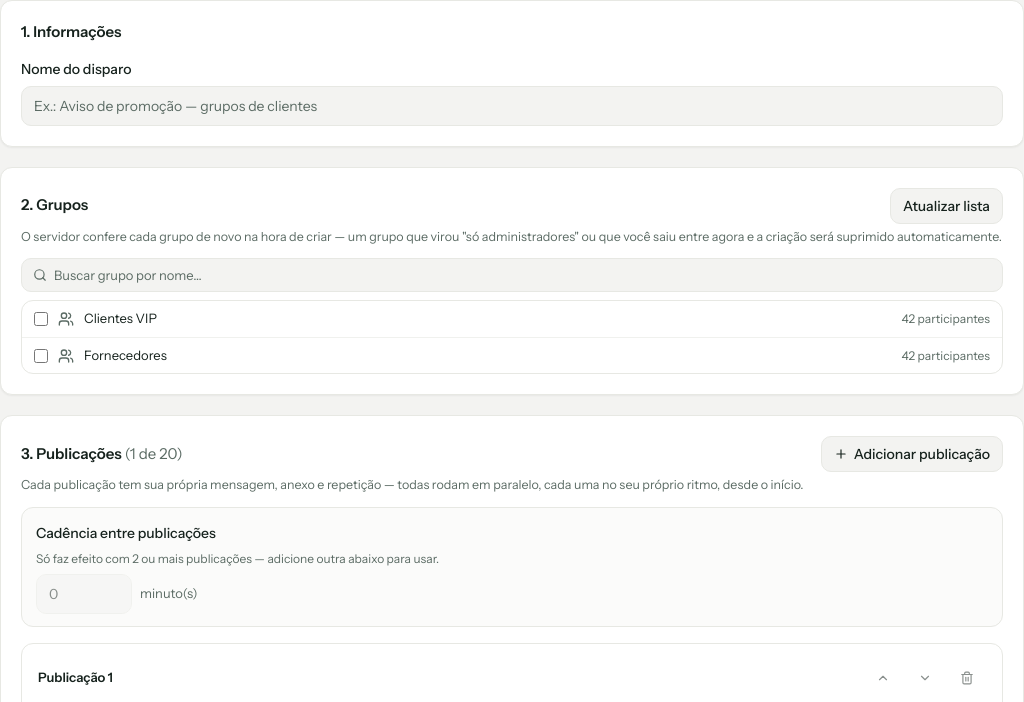
GroupBroadcastCreateForm › busca filtra os grupos pelo nome
This screenshot has width=1024, height=702.
Check: the text "Clientes VIP" is shown, box x1=84 y1=310 x2=157 y2=326
Type "forne" into the field with placeholder "Buscar grupo por nome…".
click(512, 275); type("forne")  # box x1=21 y1=258 x2=1003 y2=292
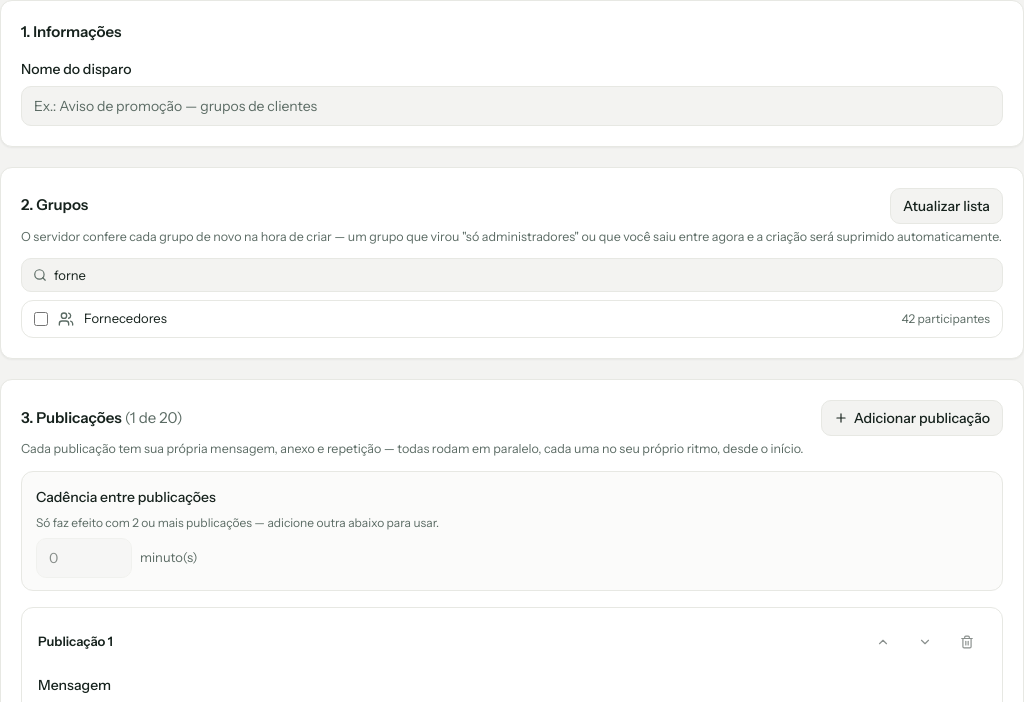
Check: the text "Fornecedores" is shown, box x1=84 y1=310 x2=167 y2=326
Check: the text "Clientes VIP" is gone
